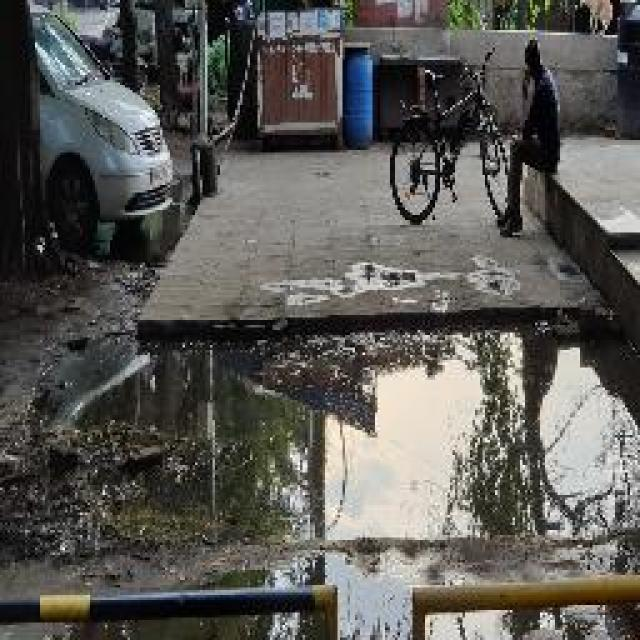puddle: (42, 324, 640, 547)
